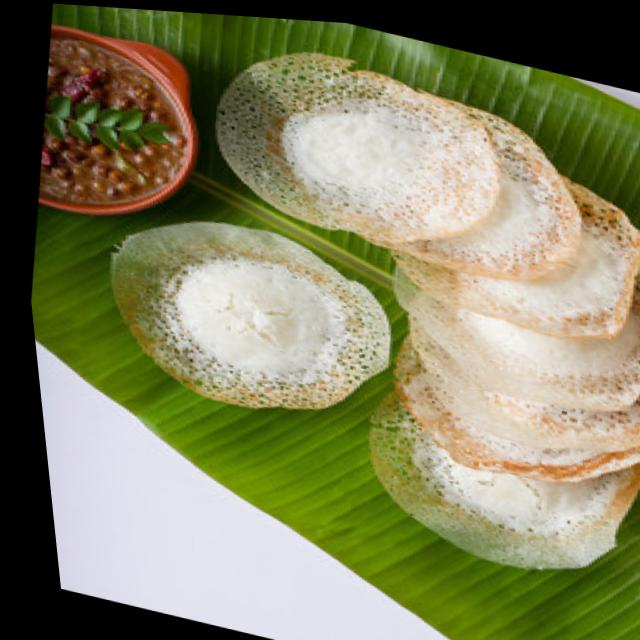AAPAM: (215, 52, 640, 567), (110, 222, 387, 407)
CURRY: (37, 24, 194, 212)
